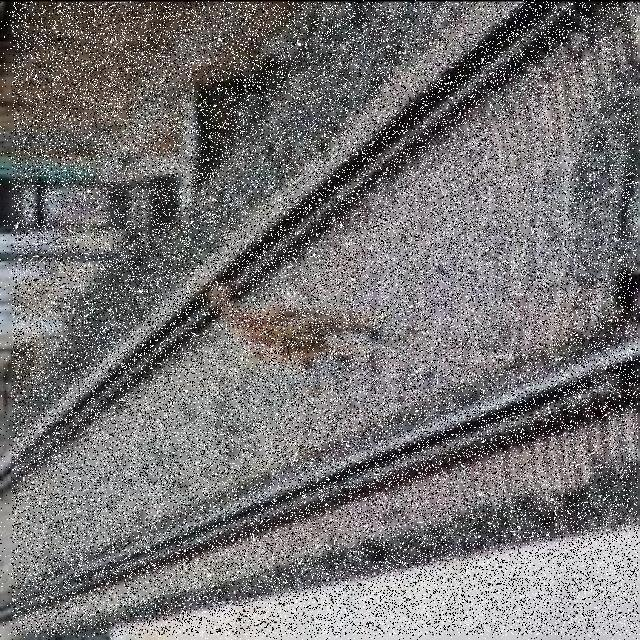rail: (13, 3, 639, 636)
